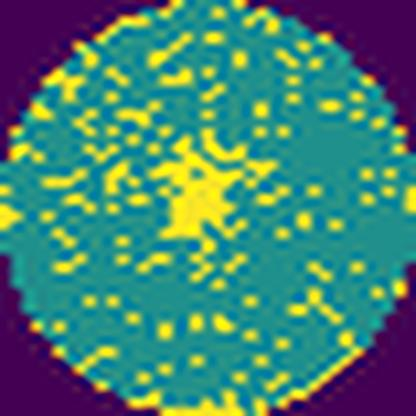Center: (147, 126, 257, 247)
